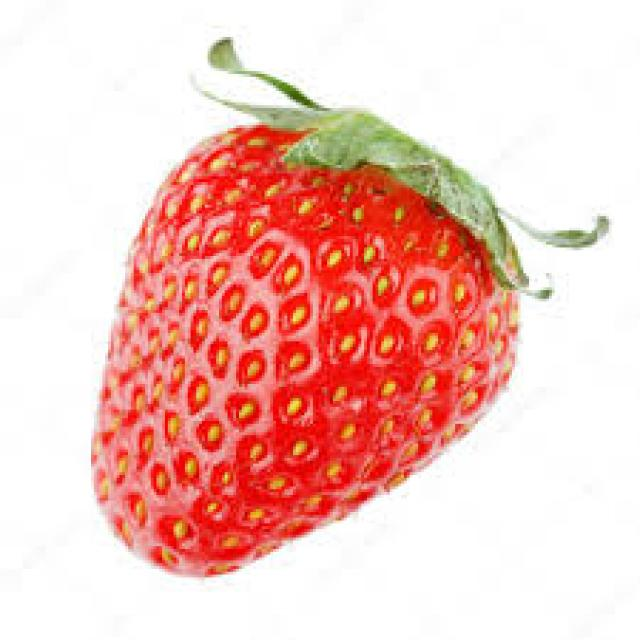organic waste: (91, 34, 597, 575)
